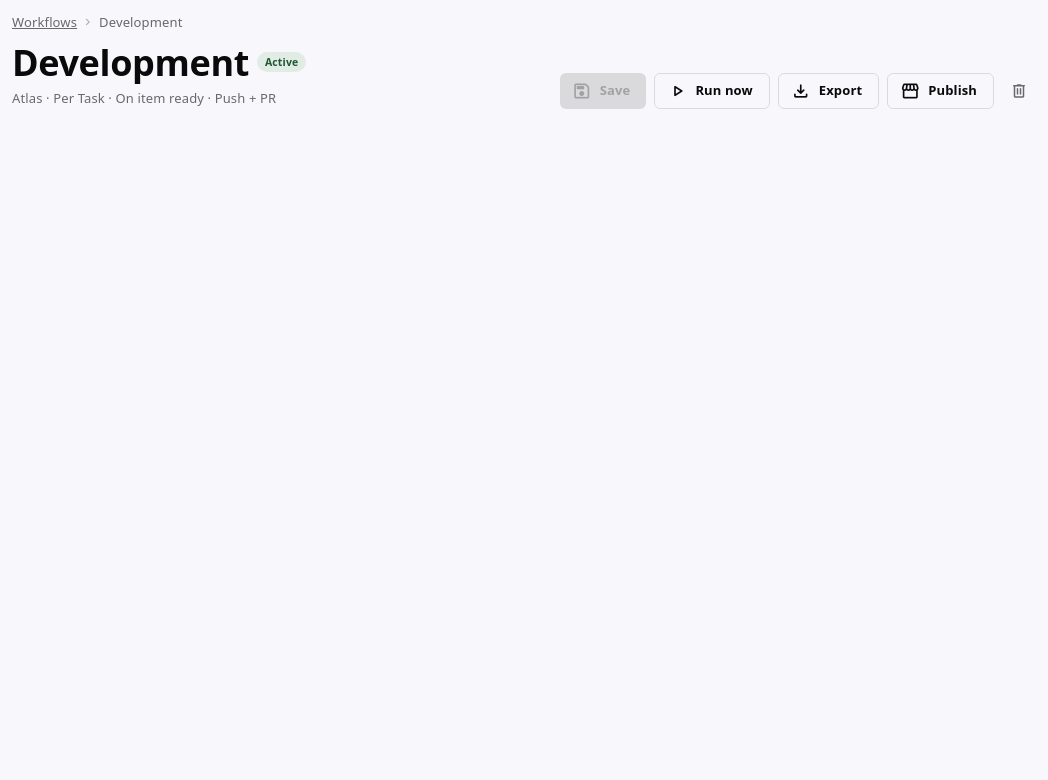
Test: WorkflowHeader Publish › publishes the saved workflow again
The image size is (1048, 780).
Click the button "Publish". click: (941, 91)
box: top-left (887, 73), bottom-right (994, 109)
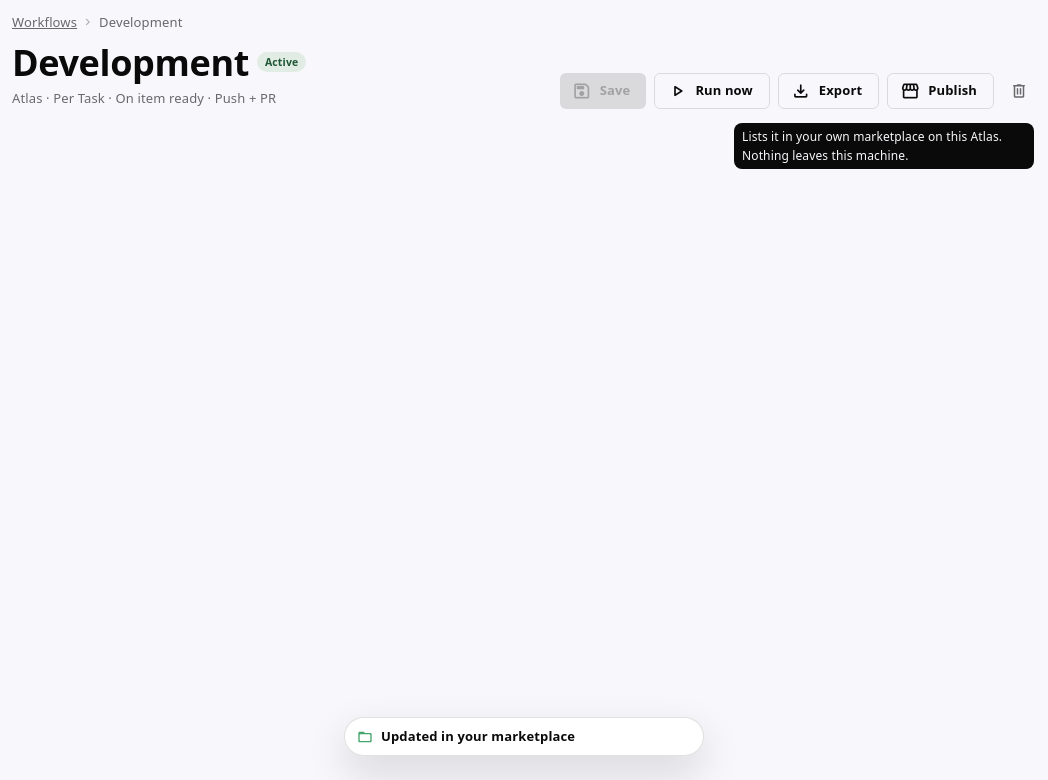
Check: the text "Updated in your marketplace" is shown, box top-left (381, 727), bottom-right (575, 745)
